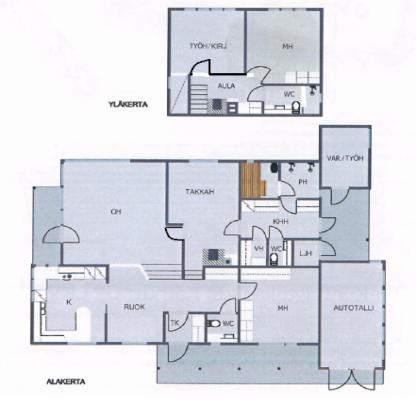door: (323, 366, 377, 393), (42, 221, 82, 249), (164, 309, 190, 333), (166, 342, 190, 362), (247, 66, 272, 84), (244, 85, 268, 102), (279, 196, 299, 216), (219, 219, 242, 236), (330, 188, 350, 206), (218, 298, 236, 316), (163, 224, 183, 240), (276, 181, 296, 197), (238, 284, 258, 300), (318, 241, 340, 255), (191, 59, 209, 76), (268, 227, 286, 241), (317, 218, 335, 232), (250, 229, 266, 241)
window: (382, 270, 388, 363), (266, 7, 306, 14), (180, 6, 234, 11), (67, 341, 98, 348), (122, 342, 146, 348), (60, 160, 66, 184), (187, 160, 221, 164), (245, 158, 254, 163)
zone: (63, 160, 181, 269), (158, 344, 380, 389), (106, 271, 240, 341), (320, 260, 383, 370), (183, 160, 240, 264), (30, 266, 107, 342), (244, 269, 316, 344), (170, 76, 319, 112), (247, 10, 316, 82), (169, 10, 246, 74), (322, 190, 370, 263), (241, 199, 321, 242), (320, 126, 365, 189), (243, 238, 296, 266), (280, 160, 317, 197), (239, 164, 278, 198), (295, 240, 322, 264)
